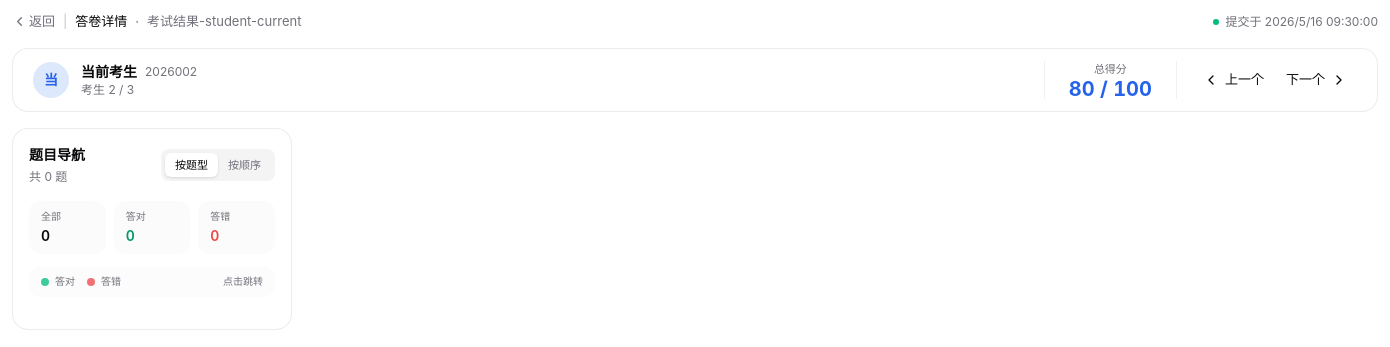
Test case: StudentAnswerPage › switches to the next student in the same exam
Expected: the text "当前考生" is shown, [81, 62, 137, 82]
Click the button "下一个" at (1316, 80), box [1276, 64, 1357, 96]
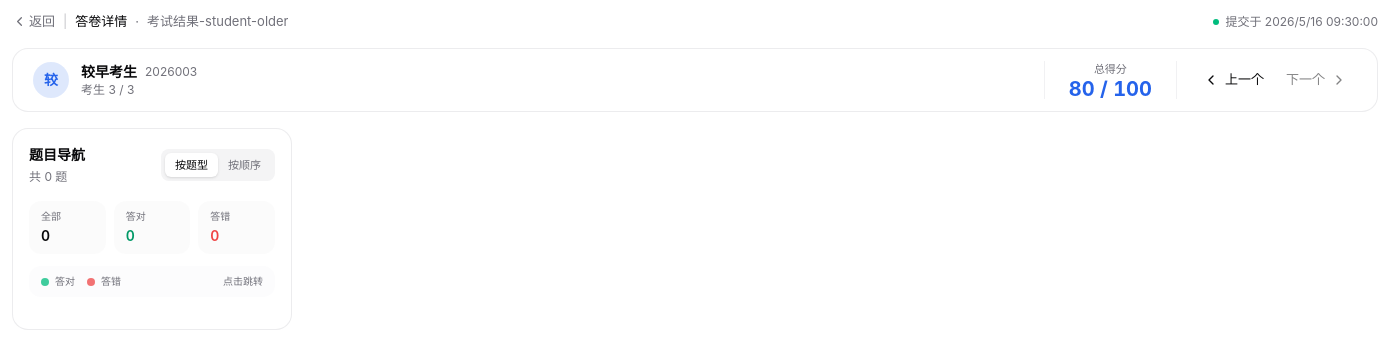
Now the text "较早考生" is shown, box [81, 62, 137, 82]
